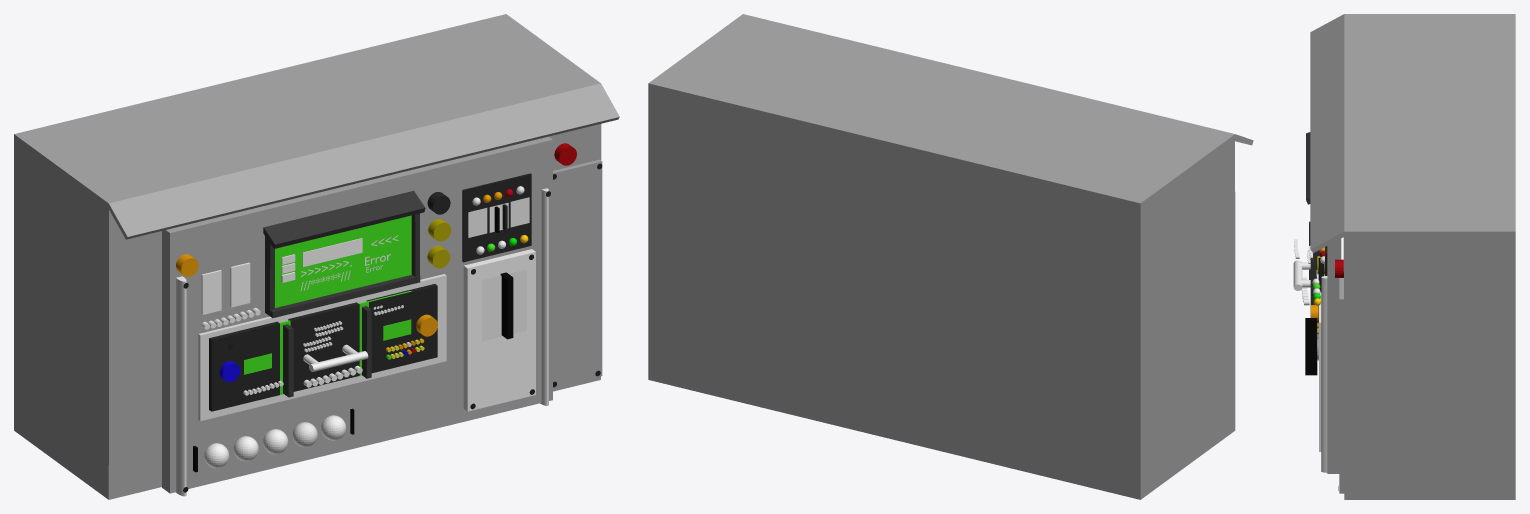
The model's file is DataCore.fbx.
3 renders of one model, left to right at view 1: azimuth 30°, elevation 25°; view 2: azimuth 150°, elevation 25°; view 3: azimuth 270°, elevation 25°, orthographic. The views are drawn at different scales.
Parts seen in each view (by area): view 1: Cube.015; view 2: Cube.015; view 3: Cube.015.
Boxes of the visible parts, x1,y1,x2,y2 form: Cube.015: (14, 14, 619, 499); Cube.015: (648, 14, 1253, 499); Cube.015: (1293, 14, 1515, 499).
Size of the model in its own units: 360 by 208 by 163.
